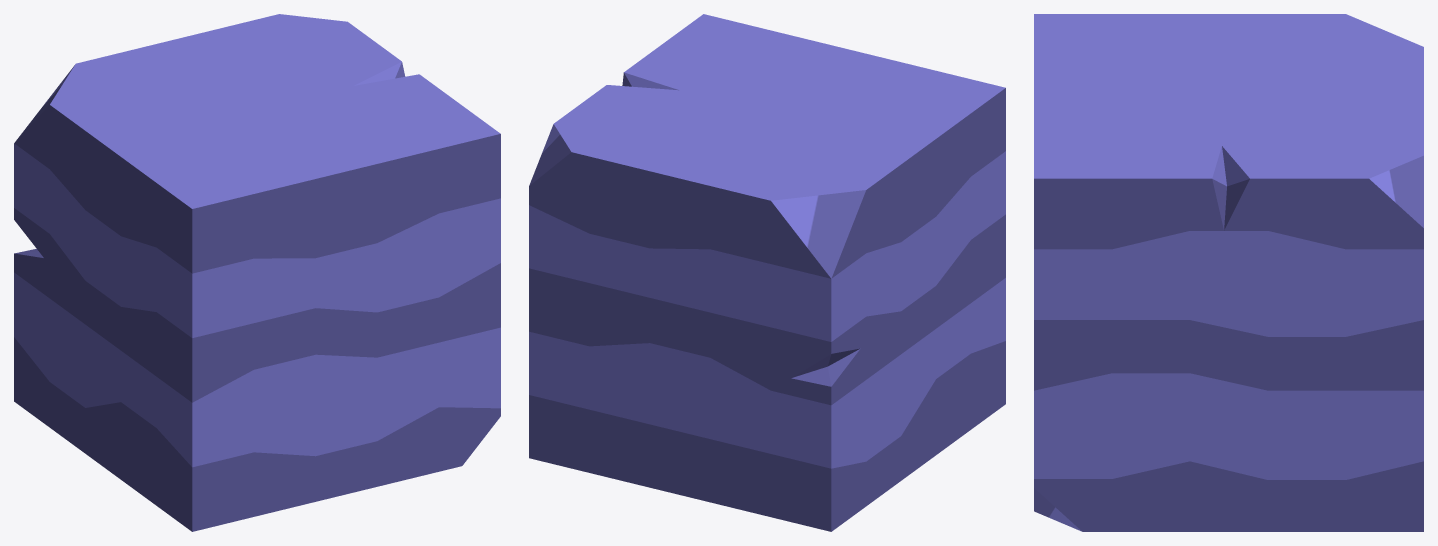
The model's file is Stone008.fbx.
3 views of the same model, side by side, from view 1: azimuth 30°, elevation 25°; view 2: azimuth 150°, elevation 25°; view 3: azimuth 270°, elevation 25° (orthographic). The views are drawn at different scales.
Parts seen in each view (by area): view 1: Stone008; view 2: Stone008; view 3: Stone008.
Boxes of the visible parts, <box> form: Stone008: <box>14,14,500,531</box>; Stone008: <box>529,14,1005,531</box>; Stone008: <box>1034,14,1423,531</box>.
Size of the model in its own units: 156 by 156 by 156.
